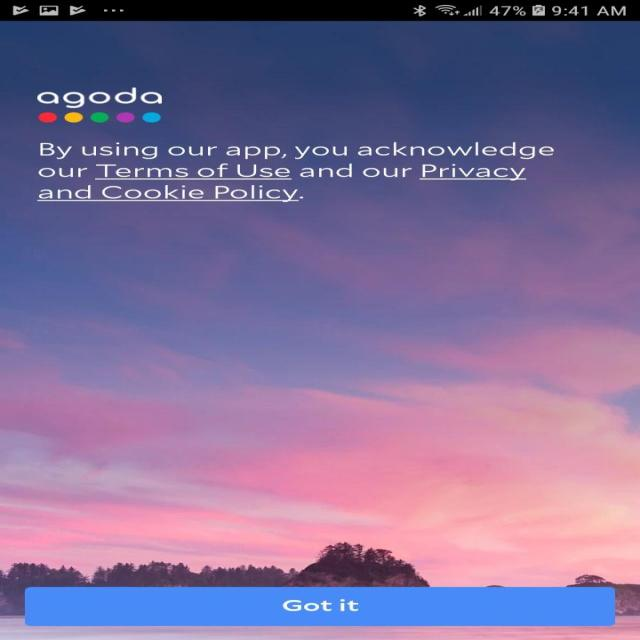BackgroundImage: (0, 21, 639, 639)
Text: (36, 141, 554, 202), (36, 87, 162, 109)
TextButton: (24, 586, 615, 626)
